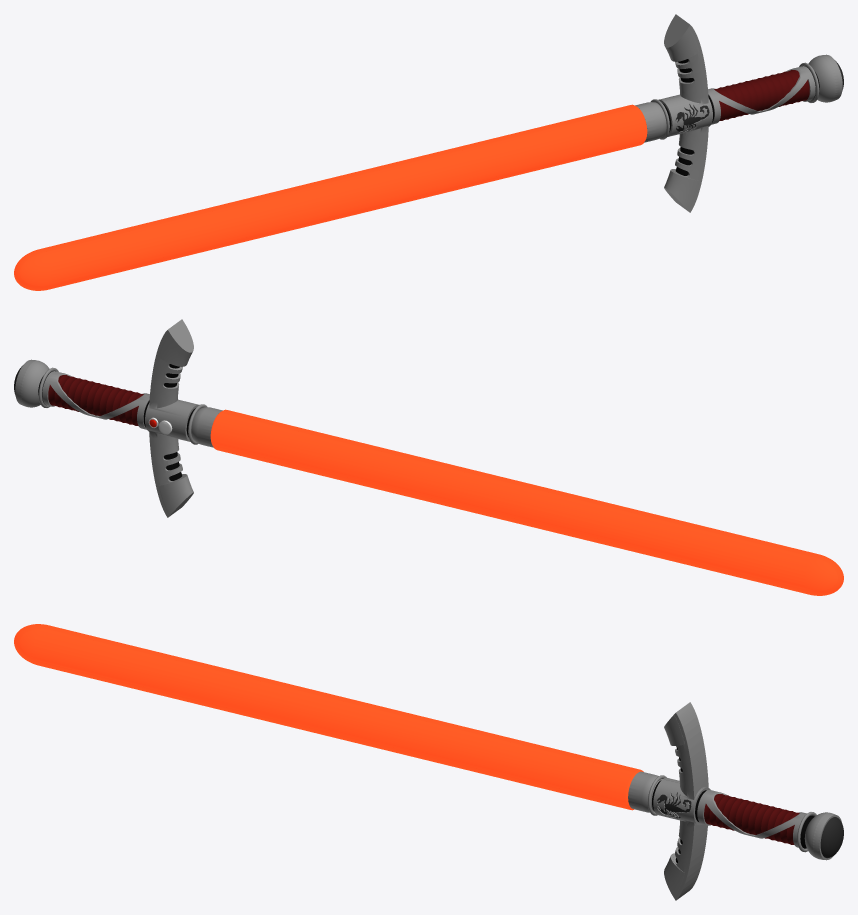
File: orange_beam_sword.gltf
3 renders of one model, top to bottom at view 1: azimuth 30°, elevation 25°; view 2: azimuth 150°, elevation 25°; view 3: azimuth 330°, elevation 25°, orthographic.
Parts seen in each view (by area): view 1: Object_2, Object_3, Object_9, Object_7; view 2: Object_2, Object_3, Object_9, Object_7; view 3: Object_2, Object_3, Object_9, Object_8.
Boxes of the visible parts, left/top/right/bottom form: Object_2: left=14, top=104, right=647, bottom=290; Object_3: left=635, top=14, right=842, bottom=212; Object_9: left=714, top=70, right=809, bottom=120; Object_7: left=662, top=59, right=819, bottom=175; Object_2: left=210, top=409, right=843, bottom=595; Object_3: left=15, top=319, right=222, bottom=517; Object_9: left=48, top=375, right=143, bottom=425; Object_7: left=38, top=364, right=195, bottom=480; Object_2: left=14, top=624, right=643, bottom=810; Object_3: left=628, top=702, right=842, bottom=900; Object_9: left=704, top=794, right=799, bottom=844; Object_8: left=657, top=792, right=843, bottom=858.
Size of the model in its own units: 915 by 200 by 47.
